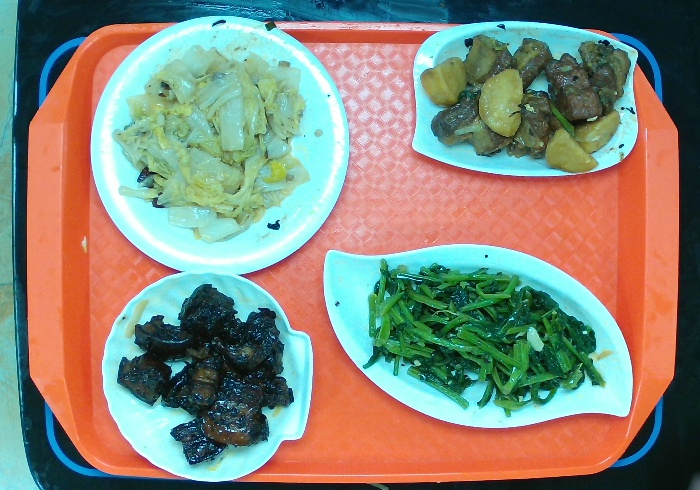RJxy-Bei_Ke_Wan: (96, 268, 321, 485)
RJxy-Jian_Jiao_Fang_Die: (402, 16, 643, 180)
RJxy-Jian_Jiao_Pan: (318, 234, 633, 434)
RJxy-Yuan_Pan: (86, 15, 350, 279)
